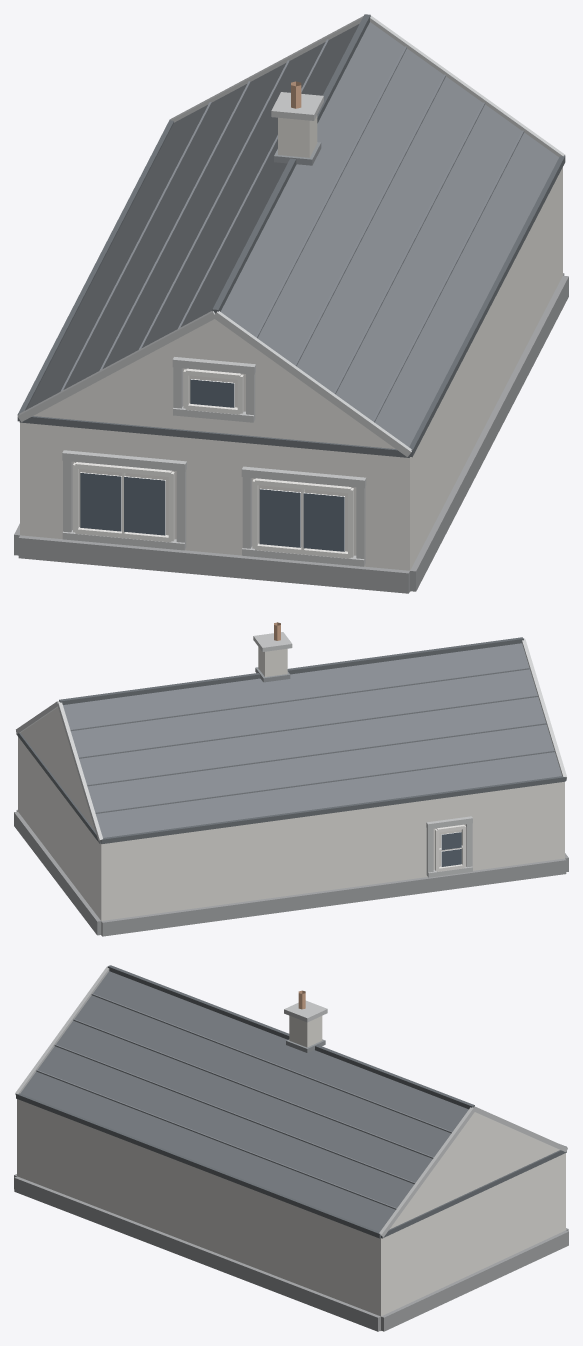
3 views of the same model, one above another, from view 1: azimuth 30°, elevation 25°; view 2: azimuth 150°, elevation 25°; view 3: azimuth 270°, elevation 25° (orthographic). The views are drawn at different scales.
Parts seen in each view (by area): view 1: slate, harl, stone_band, plinth, slate_dk, slate_lt, frame, window_glass_003, window_glass_004, window_glass_002, window_glass_001, chim_render (+1 smaller); view 2: slate, harl, plinth, slate_dk, slate_lt, stone_band, chim_render, frame; view 3: slate, harl, plinth, slate_dk, slate_lt, stone_band, chim_render.
Boxes of the visible parts, x1,y1,x2,y2 form: slate: (26,22,558,446); harl: (20,167,562,591); stone_band: (17,15,565,566); plinth: (14,273,568,593); slate_dk: (17,14,565,457); slate_lt: (60,39,524,422); frame: (73,368,353,558); window_glass_003: (124,476,165,535); window_glass_004: (80,472,121,531); window_glass_002: (259,488,300,547); window_glass_001: (303,492,344,551); chim_render: (278,115,317,157); slate: (63,643,561,837); harl: (18,707,564,935); plinth: (14,809,568,936); slate_dk: (16,637,566,843); slate_lt: (70,667,554,813); stone_band: (16,632,566,877); chim_render: (258,647,287,676); frame: (435,824,466,871); slate: (20,971,468,1231); harl: (17,1099,565,1330); plinth: (14,1174,568,1331); slate_dk: (16,965,566,1238); slate_lt: (36,993,452,1209); stone_band: (15,967,567,1237); chim_render: (289,1015,322,1047).
Size of the model in its own units: 13.99 by 6.56 by 14.34.
